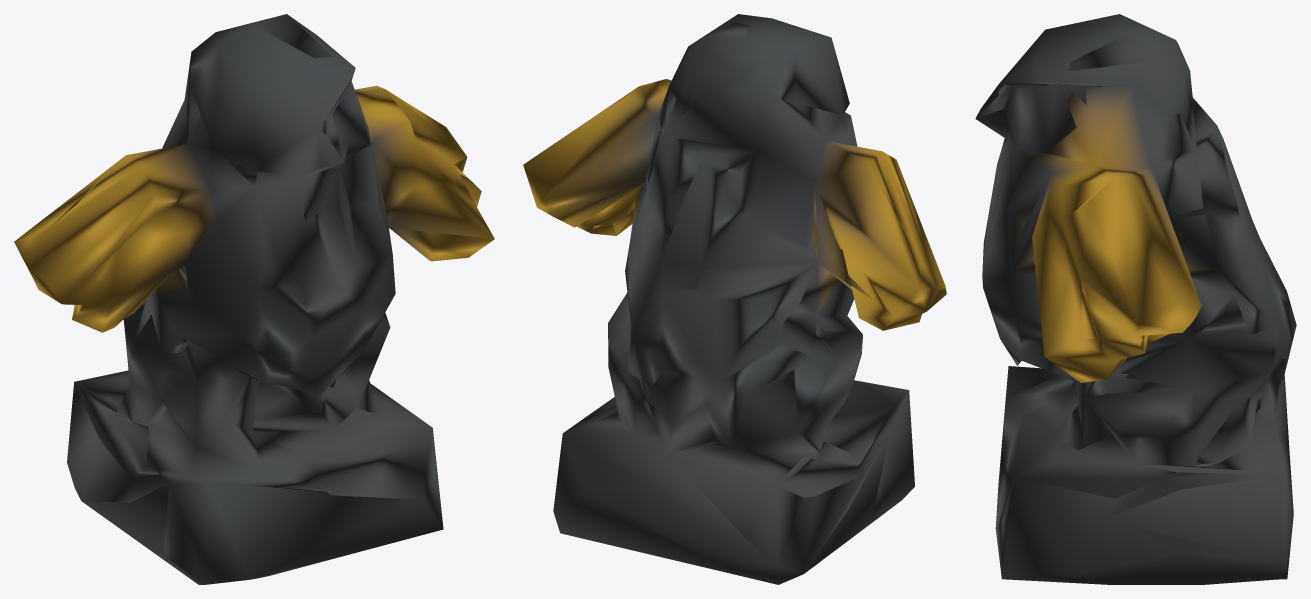
File: gen3d-scarab-statue-lod1.glb
3 views of the same model, side by side, from view 1: azimuth 30°, elevation 25°; view 2: azimuth 150°, elevation 25°; view 3: azimuth 270°, elevation 25° (orthographic). The views are drawn at different scales.
Parts seen in each view (by area): view 1: part_0; view 2: part_0; view 3: part_0.
Part boxes in pixels (box(x1,y1,x2,y2)): part_0: box(14, 14, 494, 584); part_0: box(523, 14, 946, 584); part_0: box(975, 14, 1296, 584).
Bounding box in the file's own units: 0.8976 × 0.9972 × 0.5815.
